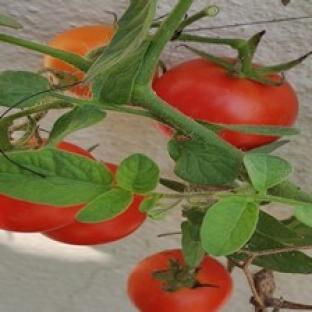Tomato: (154, 59, 298, 126), (129, 250, 232, 311), (44, 195, 146, 245), (0, 194, 83, 232), (49, 24, 115, 57)
